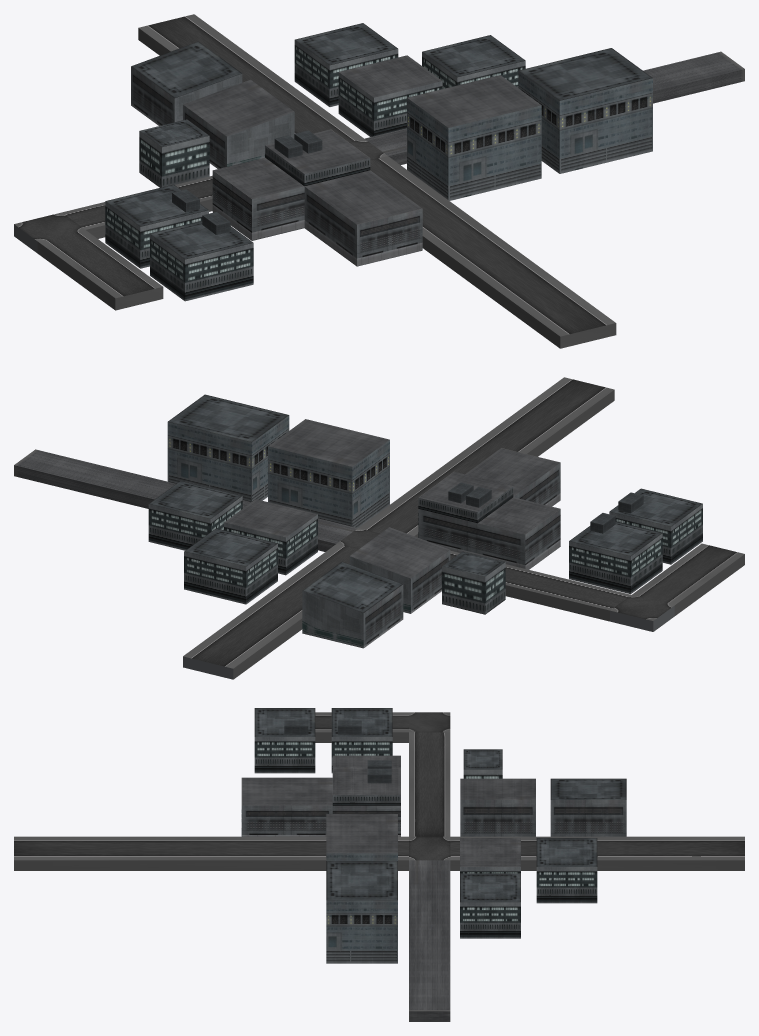
File: City00.fbx
The picture shows the model from 3 angles, top to bottom: view 1: azimuth 30°, elevation 25°; view 2: azimuth 150°, elevation 25°; view 3: azimuth 270°, elevation 25°; orthographic projection. The views are drawn at different scales.
Visible parts, largest first — view 1: City00; view 2: City00; view 3: City00.
Part boxes in pixels (x1,y1,x2,y2): City00: (14,14,744,348); City00: (14,377,744,679); City00: (14,708,744,1021).
Size of the model in its own units: 849 by 84.08 by 877.
